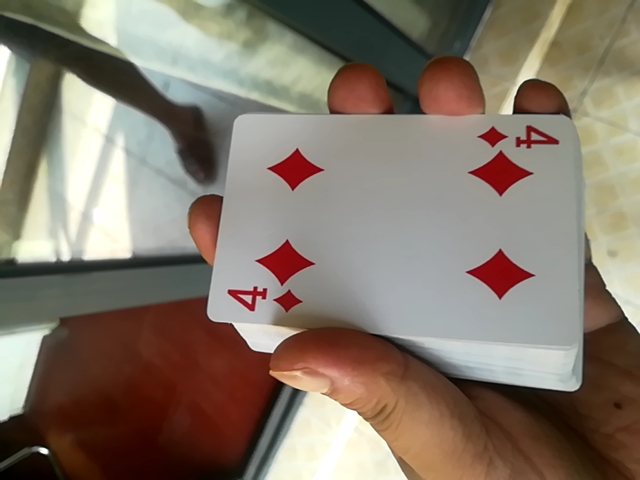fk 4: (172, 106, 604, 348)
